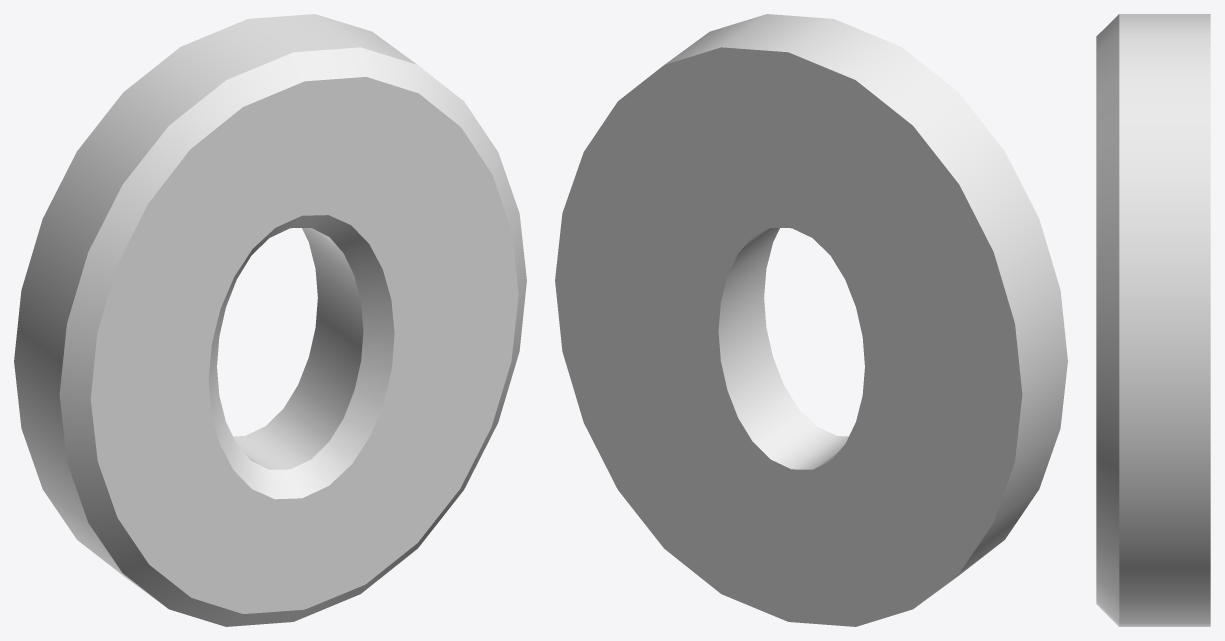
Rendered from LettersStylized01_0.FBX.
3 views of the same model, side by side, from view 1: azimuth 30°, elevation 25°; view 2: azimuth 150°, elevation 25°; view 3: azimuth 270°, elevation 25° (orthographic).
Parts seen in each view (by area): view 1: LettersStylized01_0; view 2: LettersStylized01_0; view 3: LettersStylized01_0.
Part boxes in pixels (left/top/right/bottom): LettersStylized01_0: left=14, top=14, right=526, bottom=626; LettersStylized01_0: left=555, top=14, right=1067, bottom=626; LettersStylized01_0: left=1096, top=14, right=1210, bottom=626.
Size of what is drawn, in the model's own units: 0.393 by 0.4578 by 0.083.
